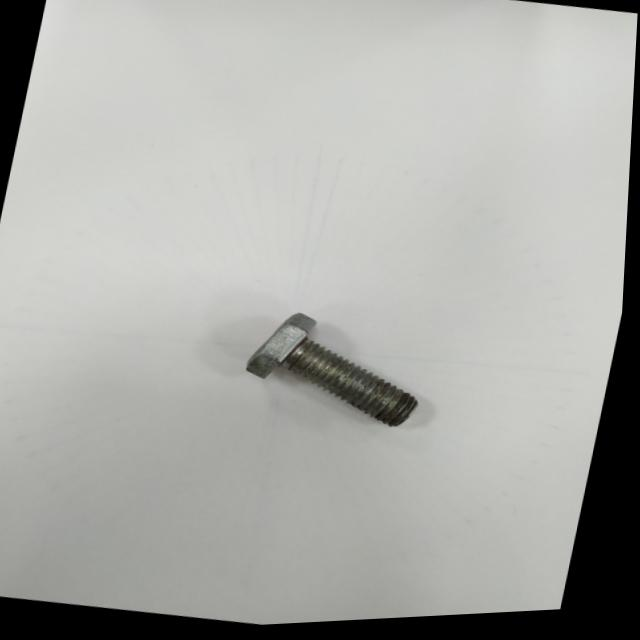Bolt: (251, 317, 422, 431)
